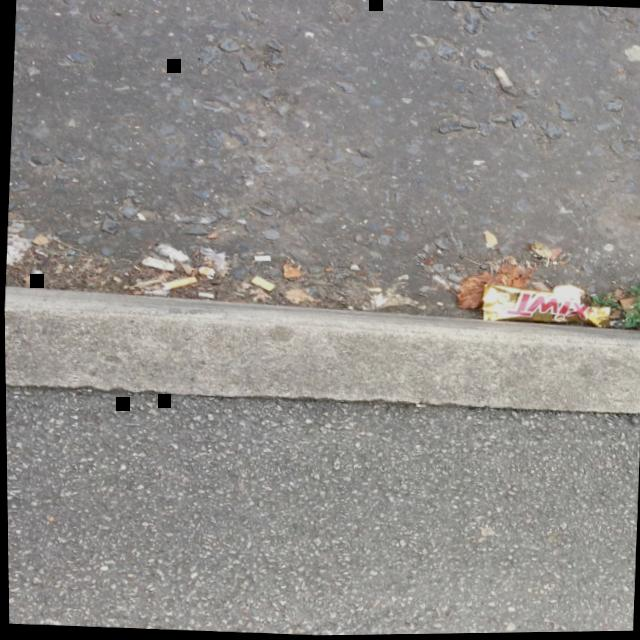Cigarette: (154, 242, 189, 263), (494, 68, 516, 95), (160, 277, 197, 290), (141, 257, 174, 271), (251, 276, 276, 292), (253, 256, 271, 262), (198, 292, 214, 298)
Other plastic: (483, 285, 610, 328)
